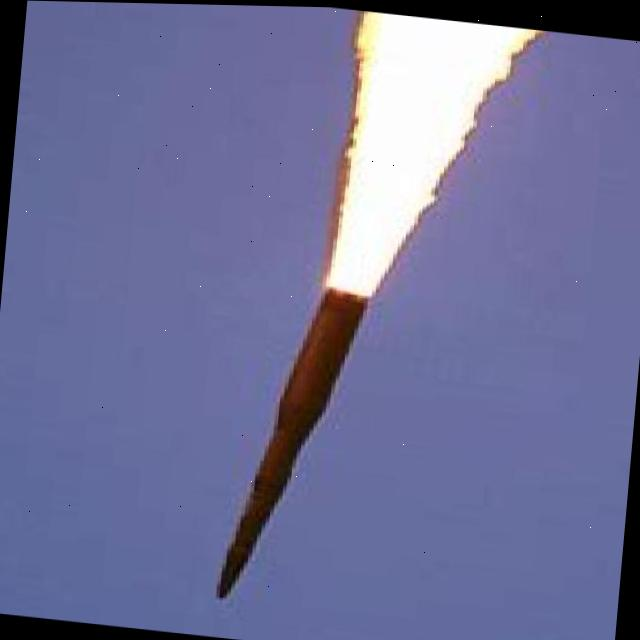missile: (209, 270, 396, 608)
